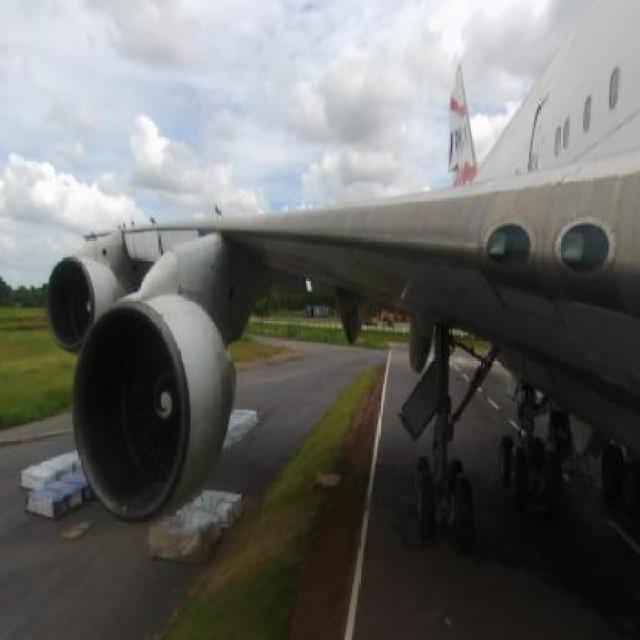Scartch: (366, 244, 482, 302)
